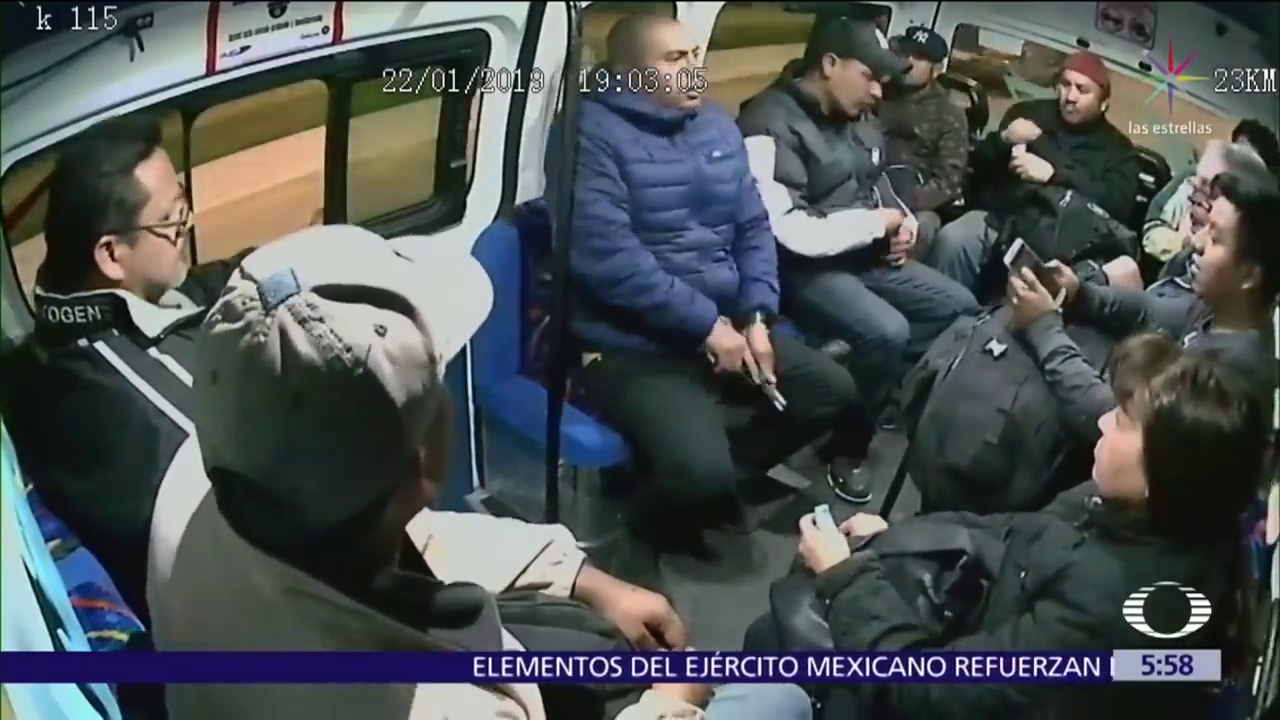pistol: (706, 348, 789, 413)
